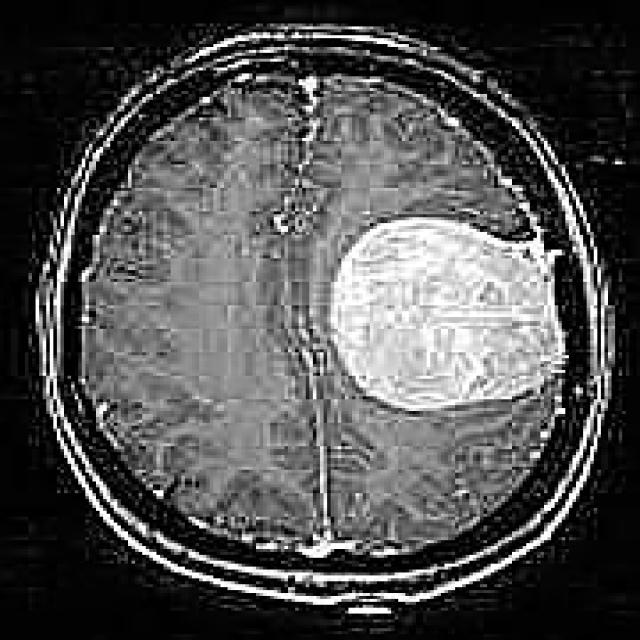Tumor-Cell: (347, 214, 564, 413)
